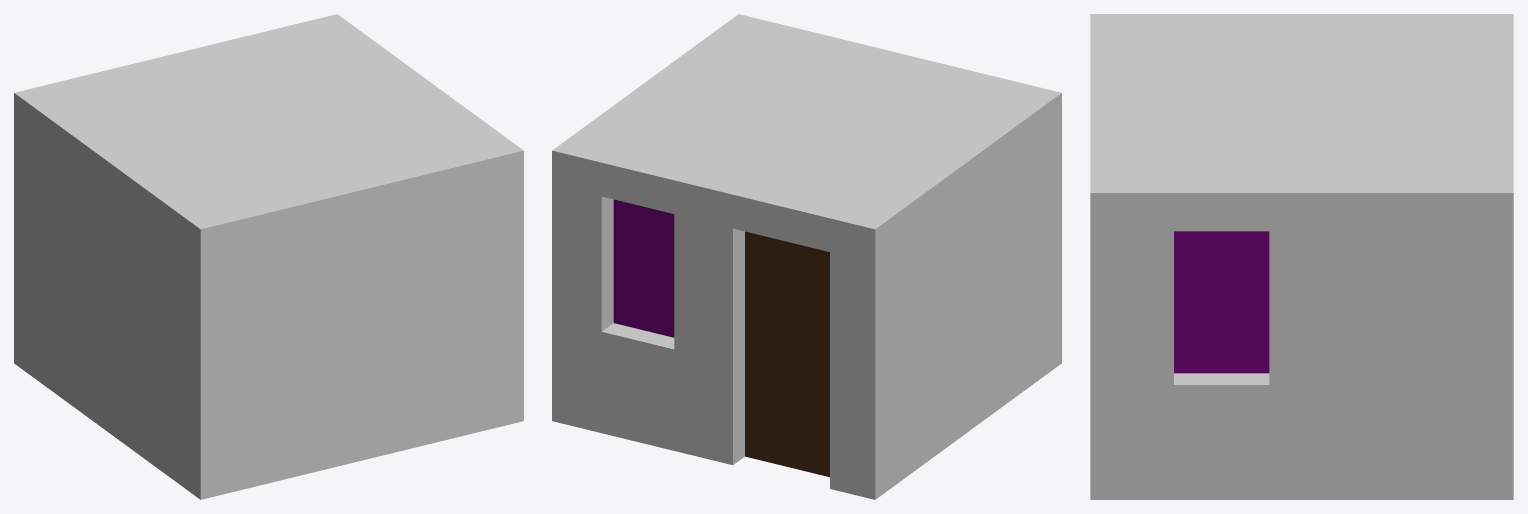
The model's file is square_bot_1.fbx.
3 views of the same model, side by side, from view 1: azimuth 30°, elevation 25°; view 2: azimuth 150°, elevation 25°; view 3: azimuth 270°, elevation 25° (orthographic). The views are drawn at different scales.
Parts seen in each view (by area): view 1: square_bot_1.003; view 2: square_bot_1.003; view 3: square_bot_1.003.
Boxes of the visible parts, left/top/right/bottom form: square_bot_1.003: left=14, top=14, right=523, bottom=499; square_bot_1.003: left=552, top=14, right=1061, bottom=499; square_bot_1.003: left=1090, top=14, right=1513, bottom=499.
Bounding box in the file's own units: 500 × 400 × 500.
